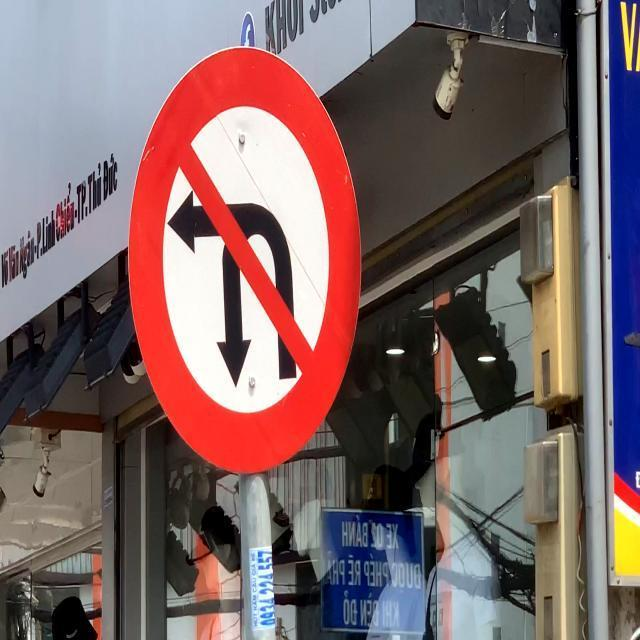124c-cam-re-trai-va-cam-quay-dau-xe: (127, 44, 364, 472)
